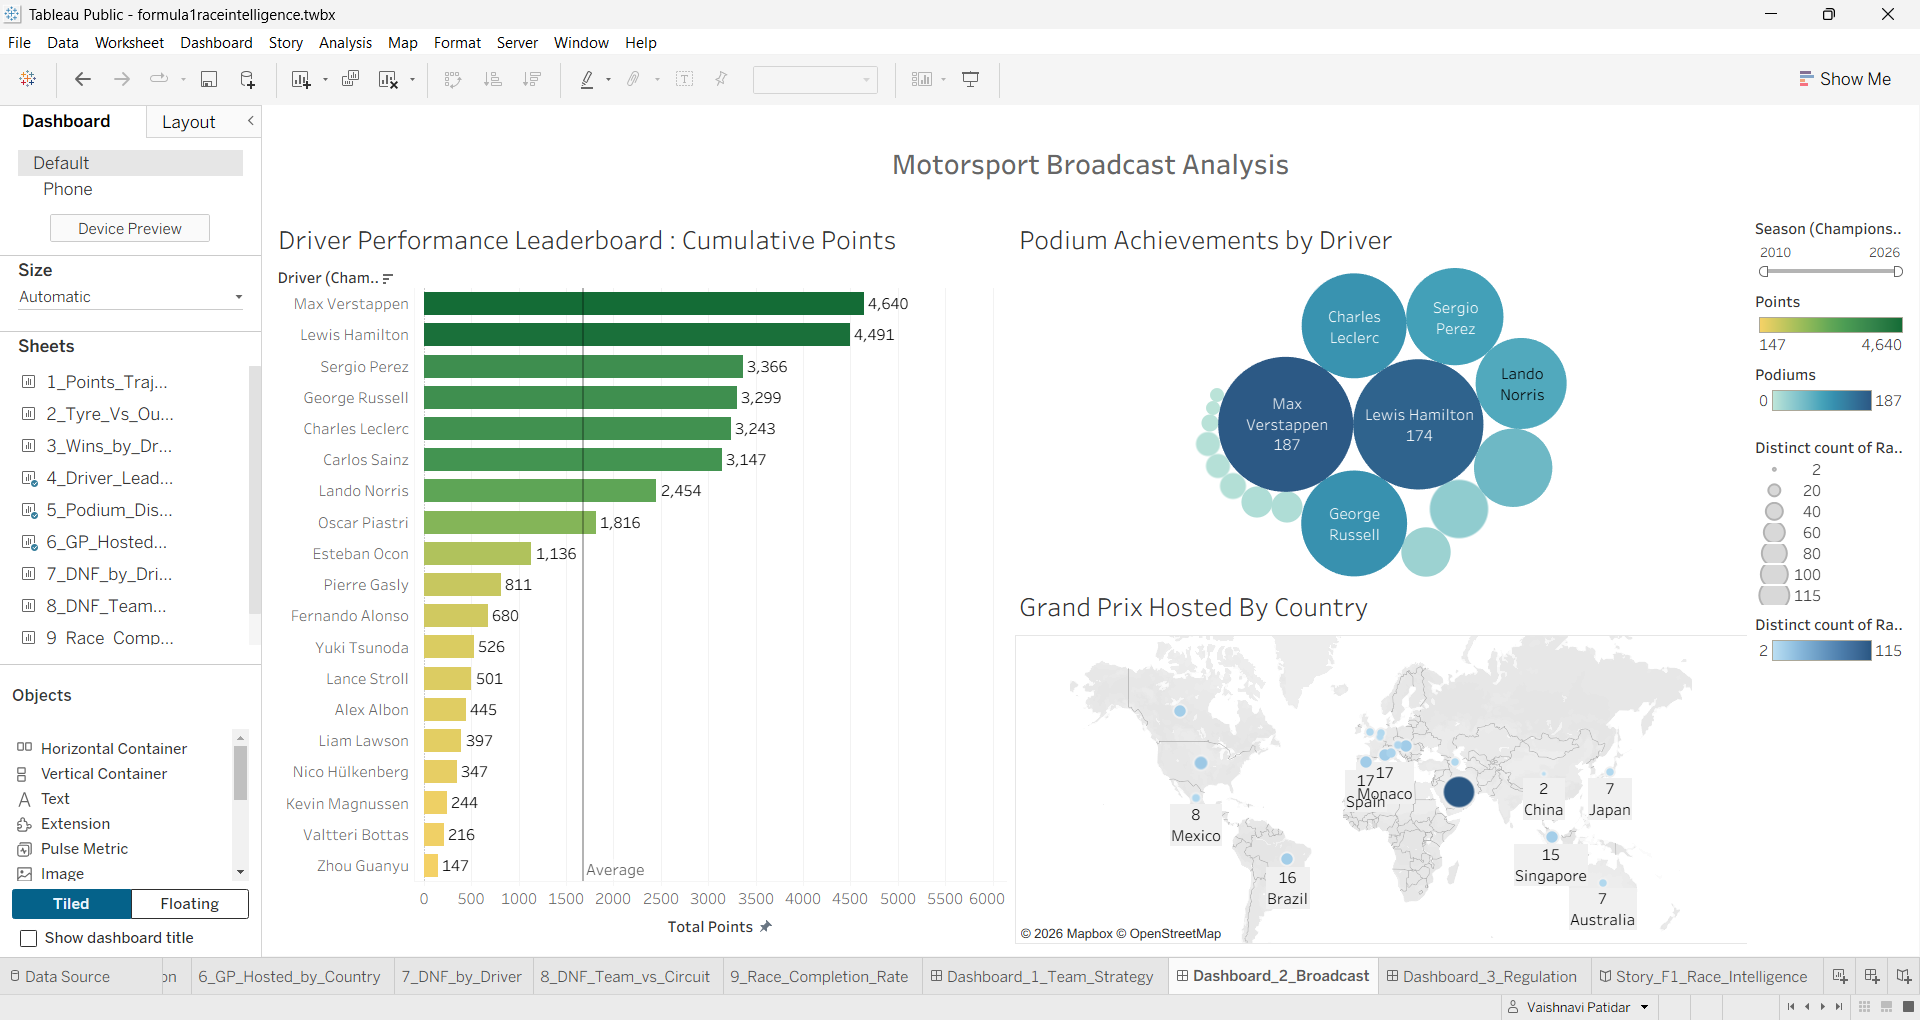

Layout of this report page (visuals, bound fields, positions):
{"tool":"tableau","page":{"name":"Dashboard_2_Broadcast","canvas":[1000,1000],"units":"permille","ordinal":1},"visuals":[{"type":"text","box":[4.8,9.4,990.3,118.7]},{"type":"worksheet","title":"4_Driver_Leaderboard","mark":"Bar","rows":["driver (championship!standings)"],"cols":["points (championship!standings)"],"box":[4.8,128.1,446.9,862.5]},{"type":"worksheet","title":"5_Podium_Distribution","mark":"Circle","box":[451.7,128.1,446.9,431.3]},{"type":"filter","title":"4_Driver_Leaderboard","param":"[federated.16xycoi09t615k0zn9l631br8ulf].[none:season (championship!standings):q","box":[898.6,128.1,96.6,85.8]},{"type":"legend","title":"4_Driver_Leaderboard","param":"[federated.16xycoi09t615k0zn9l631br8ulf].[sum:points:qk]","box":[898.6,213.9,96.6,85.8]},{"type":"legend","title":"5_Podium_Distribution","param":"[federated.16xycoi09t615k0zn9l631br8ulf].[sum:podiums:qk]","box":[898.6,299.6,96.6,85.8]},{"type":"legend","title":"6_GP_Hosted_by_Country","param":"[federated.16xycoi09t615k0zn9l631br8ulf].[ctd:race_id:qk]","box":[898.6,385.4,96.6,208]},{"type":"worksheet","title":"6_GP_Hosted_by_Country","mark":"Automatic","box":[451.7,559.4,446.9,431.2]},{"type":"legend","title":"6_GP_Hosted_by_Country","param":"[federated.16xycoi09t615k0zn9l631br8ulf].[ctd:race_id:qk]","box":[898.6,593.4,96.6,85.8]}]}

Visuals, with their boxes on the dashboard's canvas, which has no fixed pixel size, in thousandths of its width and height (x1, y1, x2, y2). These are canvas units, not pixel positions in the 1920x1020 screenshot, which may show the page scaled, cropped or inside an application window:
text: [x1=5, y1=9, x2=995, y2=128]
"4_Driver_Leaderboard" worksheet (Bar marks): [x1=5, y1=128, x2=452, y2=991]
"5_Podium_Distribution" worksheet (Circle marks): [x1=452, y1=128, x2=899, y2=559]
"4_Driver_Leaderboard" filter: [x1=899, y1=128, x2=995, y2=214]
"4_Driver_Leaderboard" legend: [x1=899, y1=214, x2=995, y2=300]
"5_Podium_Distribution" legend: [x1=899, y1=300, x2=995, y2=385]
"6_GP_Hosted_by_Country" legend: [x1=899, y1=385, x2=995, y2=593]
"6_GP_Hosted_by_Country" worksheet: [x1=452, y1=559, x2=899, y2=991]
"6_GP_Hosted_by_Country" legend: [x1=899, y1=593, x2=995, y2=679]
